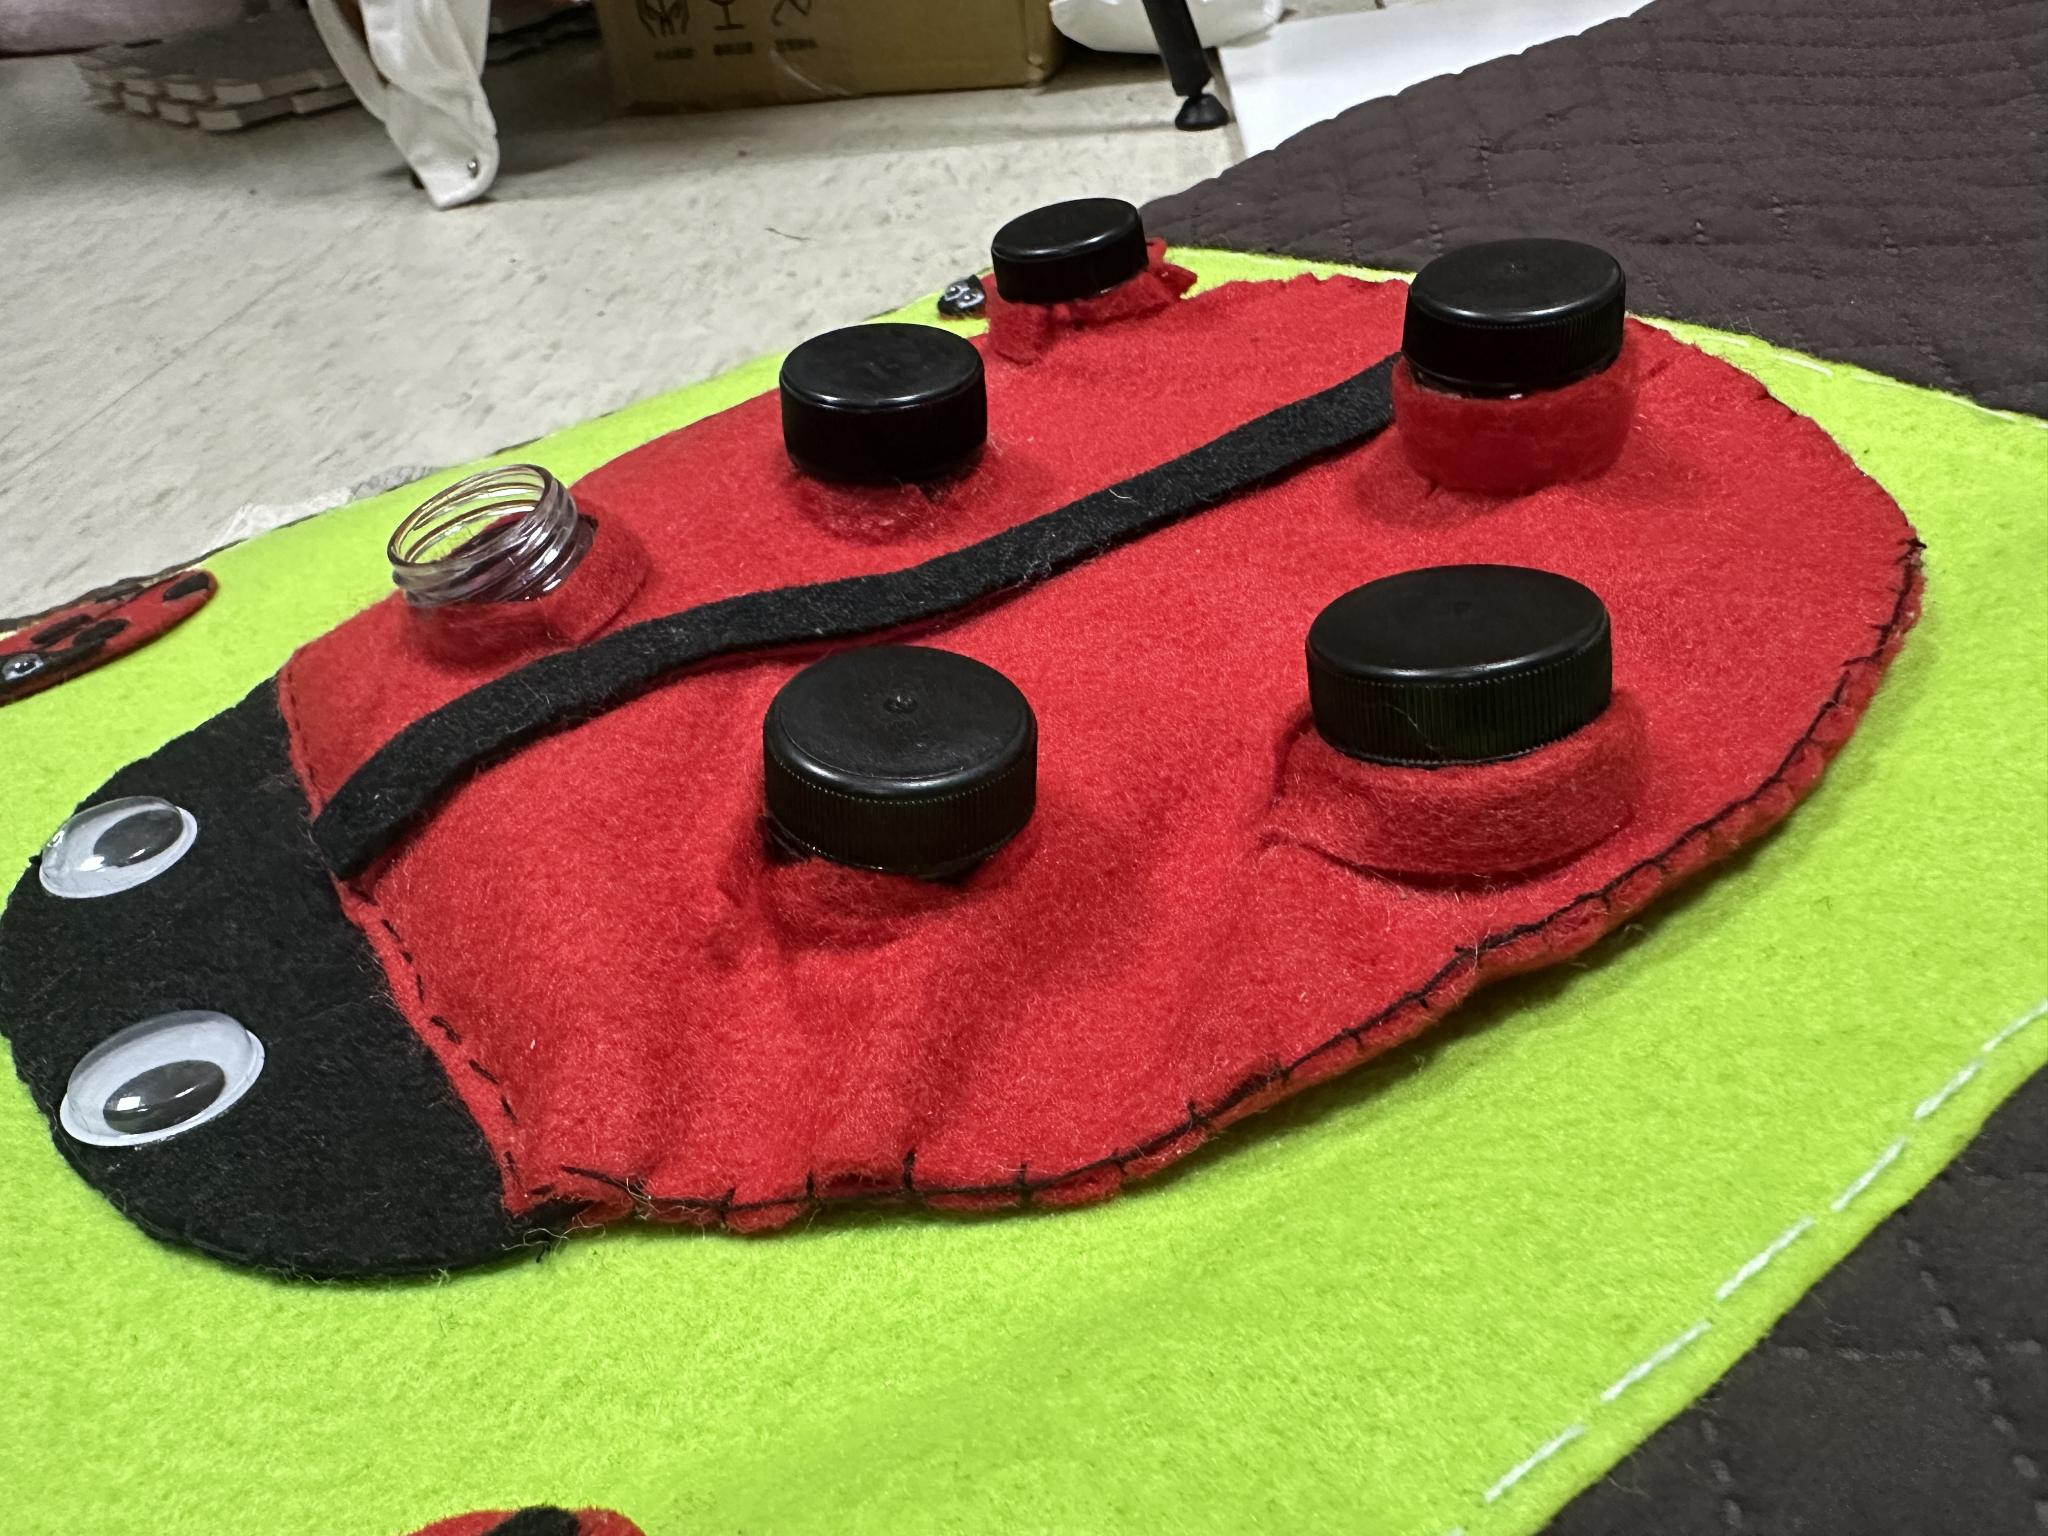cap_ok: (1256, 557, 1664, 881), (742, 626, 1084, 916), (1369, 229, 1658, 507), (748, 302, 1030, 536), (976, 189, 1219, 376)
